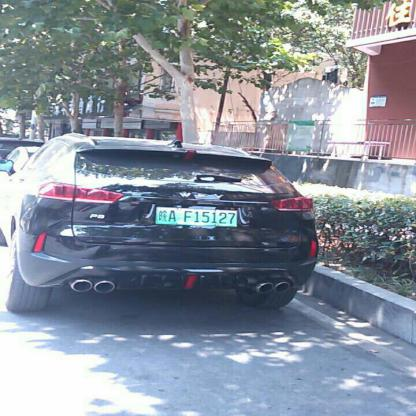lp: (156, 206, 237, 228)
